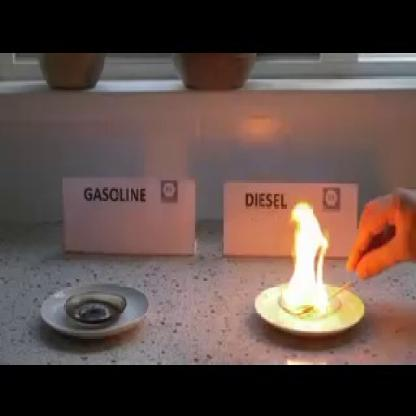fire: (282, 199, 330, 317)
